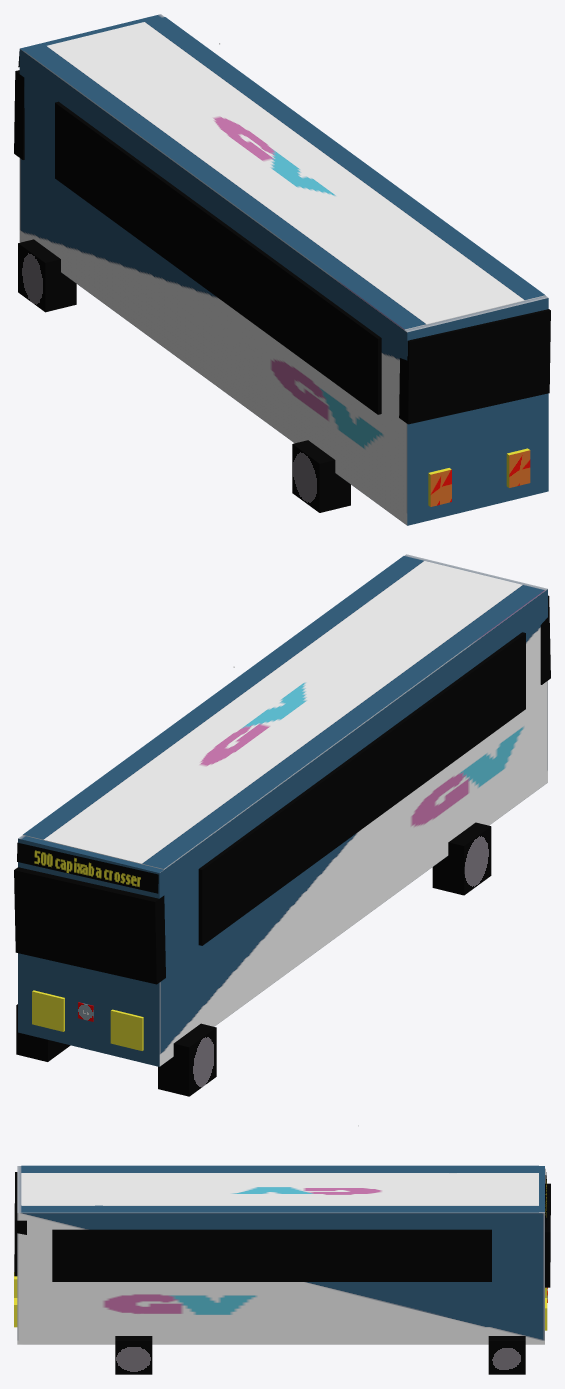
File: bus.fbx
The picture shows the model from 3 angles, top to bottom: view 1: azimuth 30°, elevation 25°; view 2: azimuth 150°, elevation 25°; view 3: azimuth 270°, elevation 25°; orthographic projection. The views are drawn at different scales.
Parts seen in each view (by area): view 1: cube_16, cube_9_1, cube_19, cube_10_1, cube_2_1, cube_1_1, cube_10_2, cube_6_2, cube_5_2; view 2: cube_16, cube_9_1, cube_19, cube_10_2, cube_2_1, cube_1_1, cube_10_3, cube_5_1, cube_6_1, cube_4_1, cube_10_1; view 3: cube_16, cube_9_1, cube_20, cube_4_1, cube_3_1, cube_10_2, cube_10_1.
Boxes of the visible parts, bbox=[...] form: cube_16: bbox=[19, 14, 548, 525]; cube_9_1: bbox=[24, 17, 545, 329]; cube_19: bbox=[55, 101, 381, 414]; cube_10_1: bbox=[399, 309, 550, 424]; cube_2_1: bbox=[292, 440, 350, 512]; cube_1_1: bbox=[18, 239, 76, 312]; cube_10_2: bbox=[14, 70, 24, 159]; cube_6_2: bbox=[506, 448, 530, 487]; cube_5_2: bbox=[428, 468, 451, 506]; cube_16: bbox=[18, 554, 547, 1066]; cube_9_1: bbox=[23, 556, 544, 869]; cube_19: bbox=[198, 632, 525, 945]; cube_10_2: bbox=[14, 867, 165, 984]; cube_2_1: bbox=[432, 822, 491, 895]; cube_1_1: bbox=[158, 1023, 216, 1096]; cube_10_3: bbox=[17, 842, 158, 893]; cube_5_1: bbox=[110, 1009, 143, 1050]; cube_6_1: bbox=[32, 990, 64, 1031]; cube_4_1: bbox=[16, 1004, 70, 1061]; cube_10_1: bbox=[540, 595, 550, 684]; cube_16: bbox=[17, 1166, 544, 1344]; cube_9_1: bbox=[21, 1165, 538, 1212]; cube_20: bbox=[52, 1229, 491, 1281]; cube_4_1: bbox=[488, 1336, 525, 1374]; cube_3_1: bbox=[115, 1336, 152, 1374]; cube_10_2: bbox=[545, 1183, 550, 1287]; cube_10_1: bbox=[14, 1172, 26, 1276].
Bounding box in the file's own units: 2707 × 4794 × 10713.
10 materials, 10 textured.
